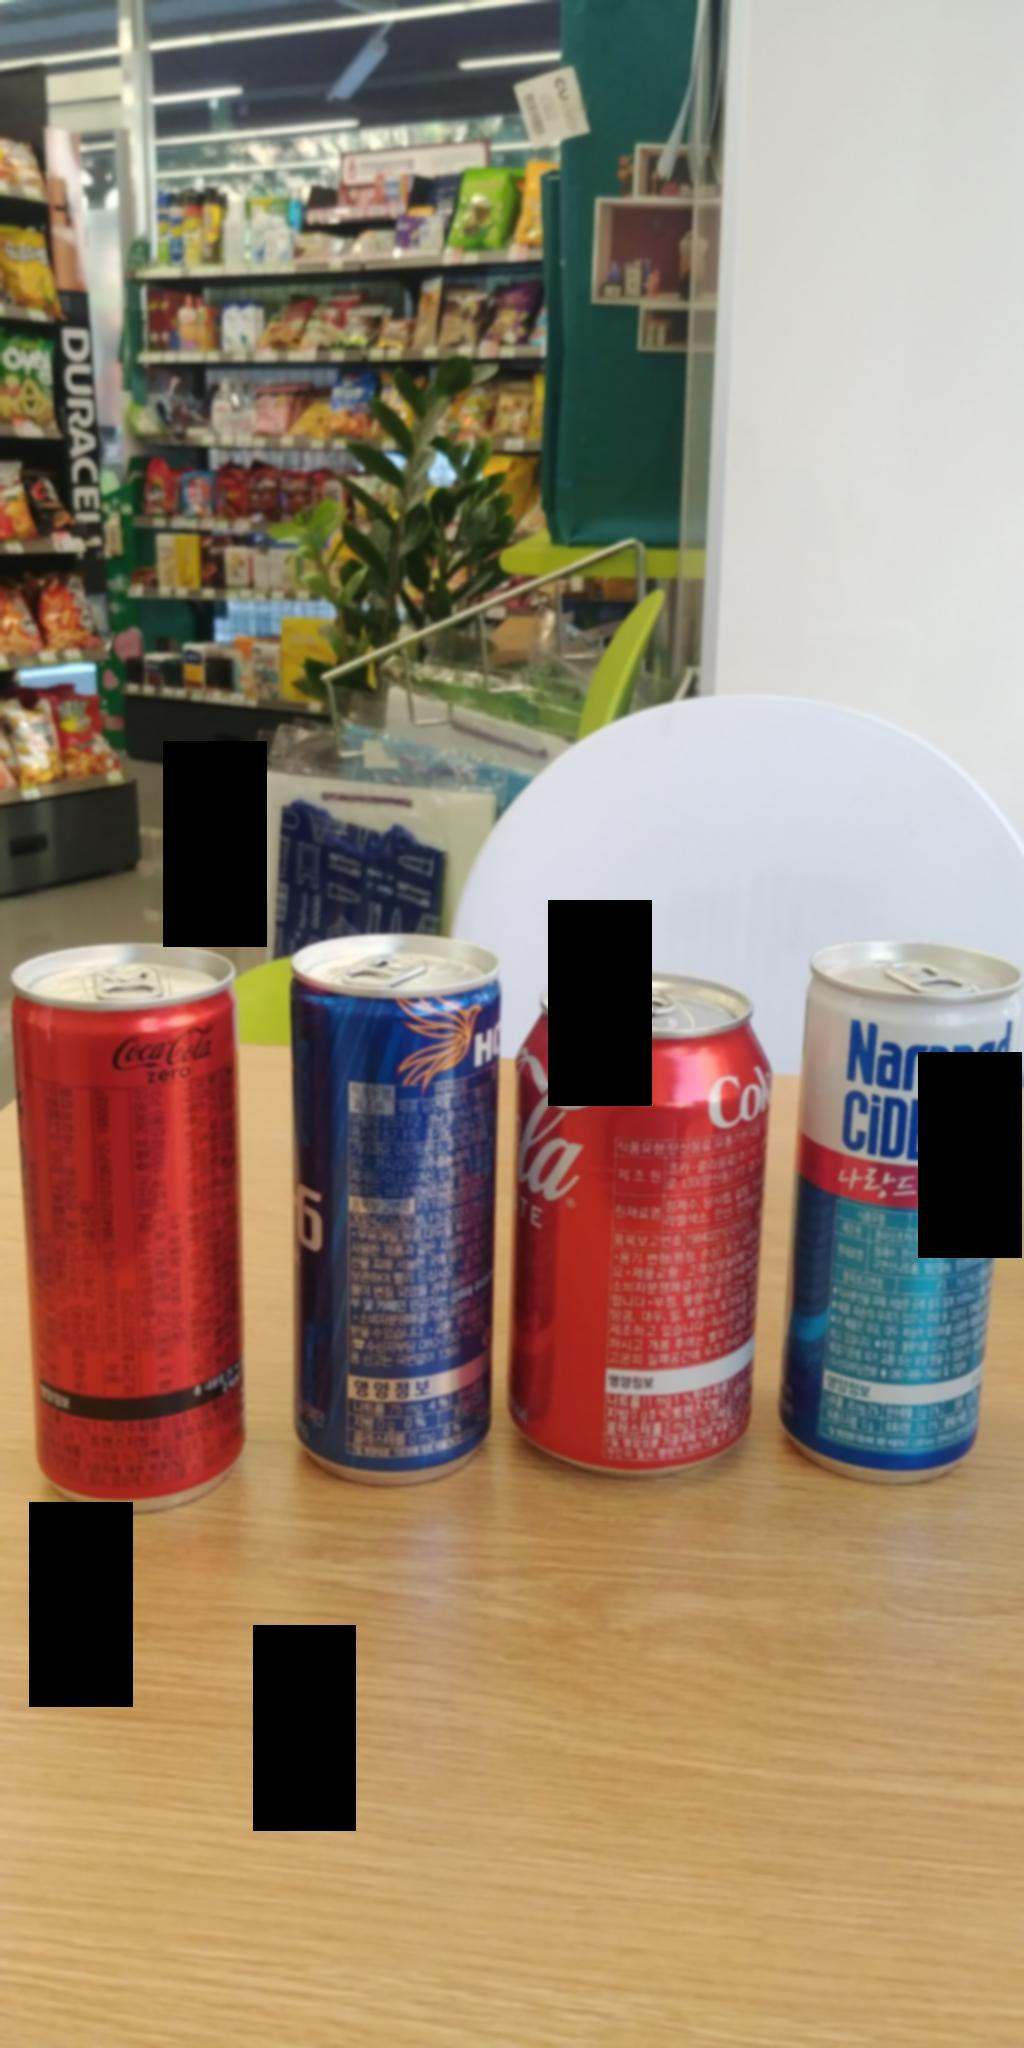cocacola: (509, 964, 777, 1499)
hotsix_org: (272, 940, 500, 1498)
narangdcider: (785, 930, 1024, 1469)
